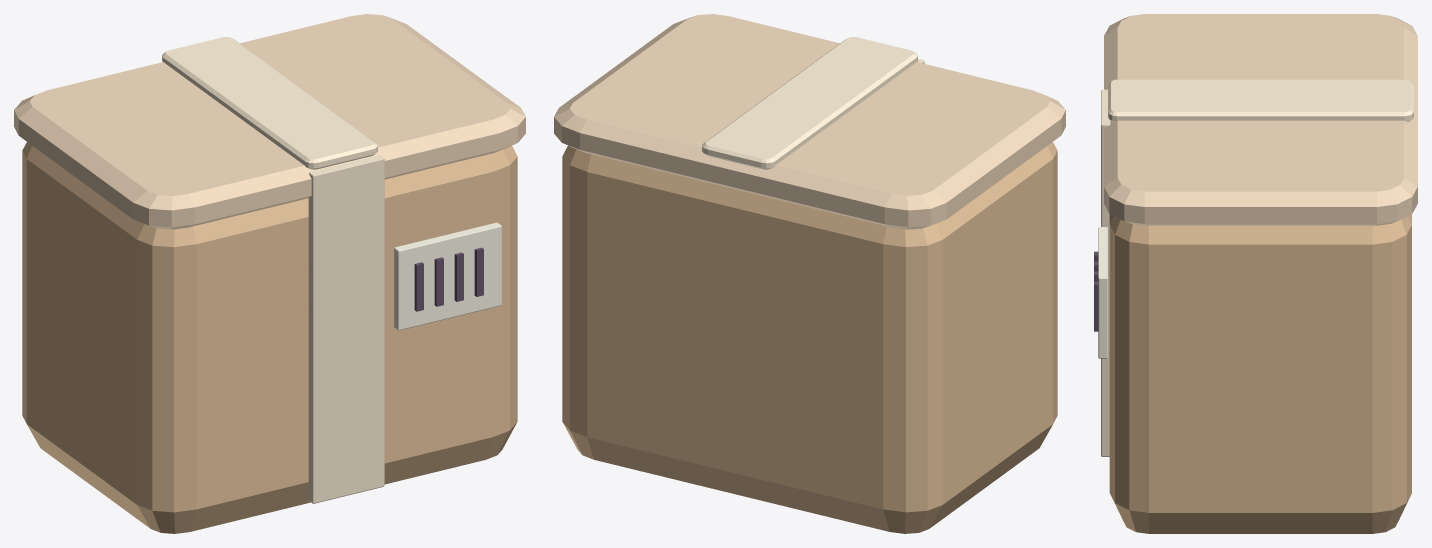
The model's file is package_small.glb.
The picture shows the model from 3 angles, left to right: view 1: azimuth 30°, elevation 25°; view 2: azimuth 150°, elevation 25°; view 3: azimuth 270°, elevation 25°; orthographic projection.
Parts seen in each view (by area): view 1: carton, lid, model, ribbon, label; view 2: carton, lid, ribbon; view 3: carton, lid, ribbon, model, label.
Part boxes in pixels (box(x1,y1,x2,y2)): carton: box(22, 142, 517, 533); lid: box(14, 14, 525, 229); model: box(308, 155, 483, 503); ribbon: box(162, 37, 377, 169); label: box(394, 222, 501, 330); carton: box(562, 142, 1057, 533); lid: box(554, 14, 1065, 229); ribbon: box(702, 37, 917, 169); carton: box(1109, 214, 1411, 533); lid: box(1104, 14, 1417, 225); ribbon: box(1108, 79, 1413, 121); model: box(1094, 89, 1110, 456); label: box(1098, 227, 1107, 358).
Size of the model in its own units: 0.35 by 0.3 by 0.25.
